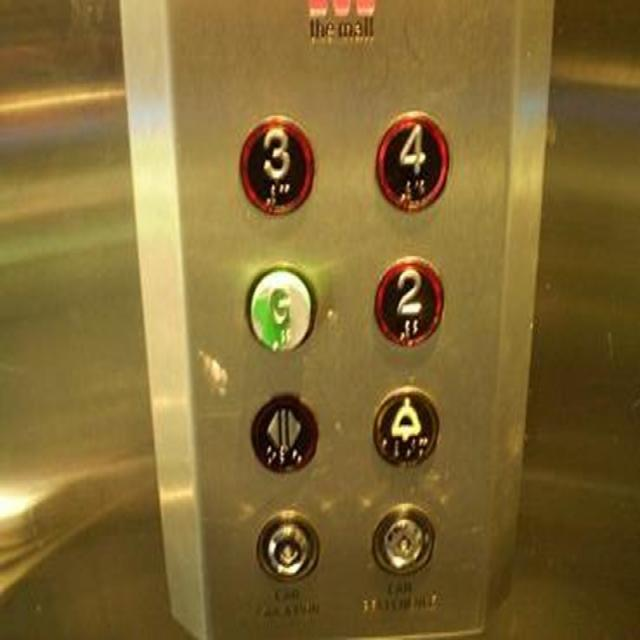2: (368, 249, 446, 351)
3: (234, 108, 316, 217)
4: (370, 105, 450, 215)
G: (242, 255, 320, 356)
alarm: (366, 380, 441, 472)
keyhole: (252, 505, 320, 584), (368, 499, 436, 577)
open: (247, 387, 321, 476)
